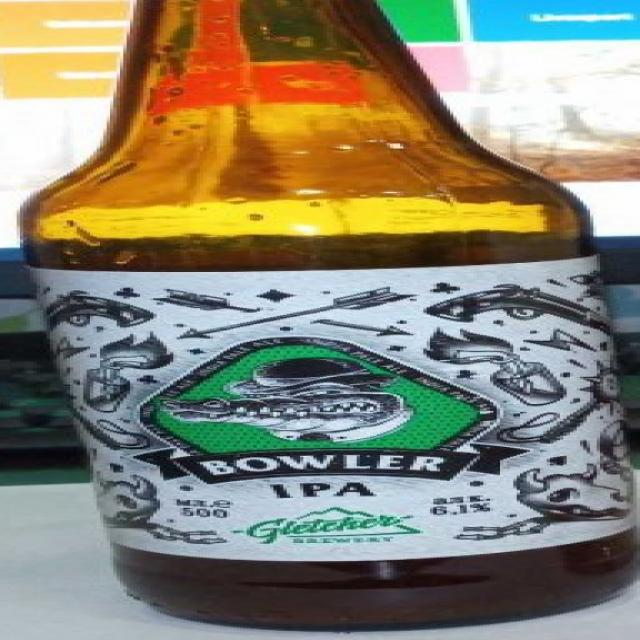Bowler IPA: (3, 0, 640, 640)
